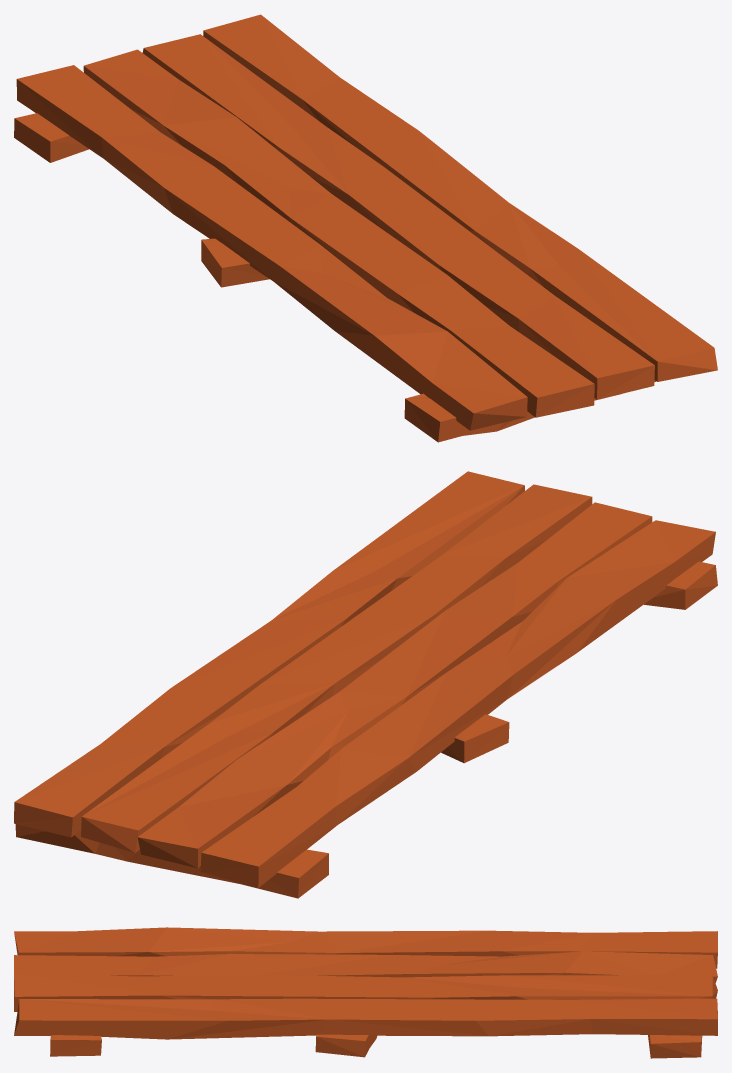
The model's file is Bridge_01.fbx.
3 renders of one model, top to bottom at view 1: azimuth 30°, elevation 25°; view 2: azimuth 150°, elevation 25°; view 3: azimuth 270°, elevation 25°, orthographic. The views are drawn at different scales.
Parts seen in each view (by area): view 1: Bridge_01; view 2: Bridge_01; view 3: Bridge_01.
Boxes of the visible parts, box(x1,y1,x2,y2) form: Bridge_01: box(14, 14, 717, 442); Bridge_01: box(14, 471, 717, 898); Bridge_01: box(14, 927, 717, 1058).
Size of the model in its own units: 233 by 36.74 by 653.
